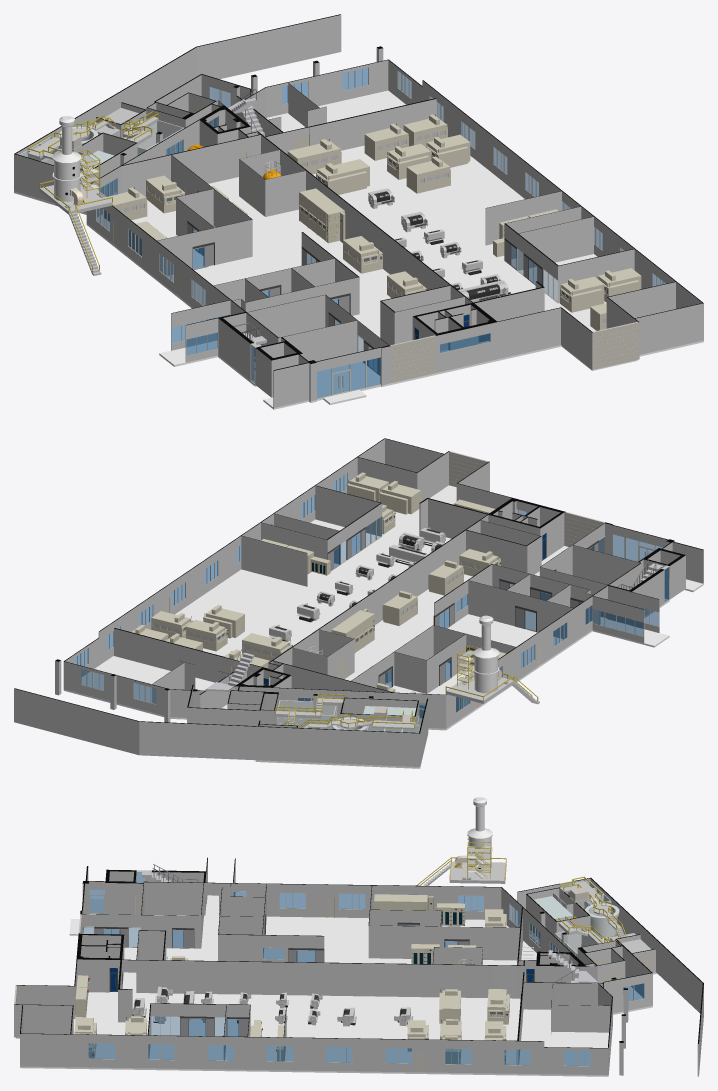
The picture shows the model from 3 angles, top to bottom: view 1: azimuth 30°, elevation 25°; view 2: azimuth 150°, elevation 25°; view 3: azimuth 270°, elevation 25°; orthographic projection. The views are drawn at different scales.
Parts seen in each view (by area): view 1: A3_1F_벽, A3_1F_바닥, A3_1F, A3_1F_창문, A3_1F_장비반입구, A3_1F_자동문, A3_1F_강화도어, Box230, 2층 폐수조 통로, 페수처리장 통로, Cylinder008, A3_1F_방화문 (+4 smaller); view 2: A3_1F_벽, A3_1F_바닥, A3_1F, A3_1F_창문, A3_1F_자동문, 페수처리장 통로, A3_1F_장비반입구, Cylinder008, 2층 폐수조 통로, Box230, A3_1F_강화도어, 2차 침전조 (+3 smaller); view 3: A3_1F_벽, A3_1F_바닥, A3_1F_창문, A3_1F, A3_1F_자동문, 페수처리장 통로, 2층 폐수조 통로, A3_1F_방화문, Cylinder008, Box219, A3_1F_계단, A3_1F_강화도어 (+6 smaller).
Boxes of the visible parts, x1,y1,x2,y2 form: A3_1F_벽: (14, 14, 703, 407); A3_1F_바닥: (14, 90, 703, 409); A3_1F: (104, 114, 641, 330); A3_1F_창문: (96, 67, 665, 384); A3_1F_장비반입구: (390, 321, 638, 382); A3_1F_자동문: (187, 191, 543, 375); A3_1F_강화도어: (298, 314, 469, 398); Box230: (299, 188, 345, 243); 2층 폐수조 통로: (39, 180, 112, 275); 페수처리장 통로: (27, 111, 158, 159); Cylinder008: (52, 116, 81, 201); A3_1F_방화문: (112, 103, 490, 296); A3_1F_벽: (14, 438, 703, 766); A3_1F_바닥: (63, 485, 703, 768); A3_1F: (131, 472, 501, 718); A3_1F_창문: (74, 472, 669, 719); A3_1F_자동문: (327, 527, 598, 687); 페수처리장 통로: (275, 693, 415, 729); A3_1F_장비반입구: (449, 451, 604, 552); Cylinder008: (473, 615, 499, 693); 2층 폐수조 통로: (445, 673, 539, 704); Box230: (331, 608, 374, 653); A3_1F_강화도어: (263, 533, 663, 685); 2차 침전조: (276, 700, 337, 729); A3_1F_벽: (14, 857, 703, 1076); A3_1F_바닥: (15, 895, 657, 1076); A3_1F_창문: (82, 870, 644, 1066); A3_1F: (74, 909, 509, 1064); A3_1F_자동문: (94, 914, 469, 1036); 페수처리장 통로: (558, 876, 626, 944); 2층 폐수조 통로: (410, 857, 506, 894); A3_1F_방화문: (135, 895, 650, 1072); Cylinder008: (467, 797, 492, 872); Box219: (374, 894, 433, 925); A3_1F_계단: (142, 864, 597, 983); A3_1F_강화도어: (82, 889, 534, 991).
Size of the model in its own units: 50.2 by 13.32 by 76.59.
